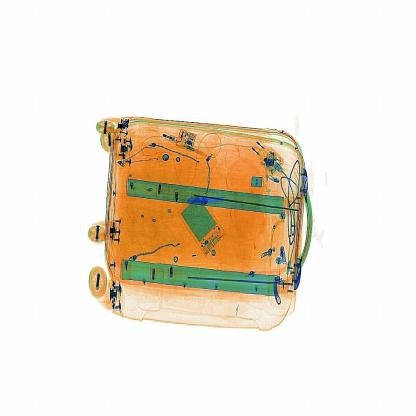pliers: (185, 185, 243, 214)
